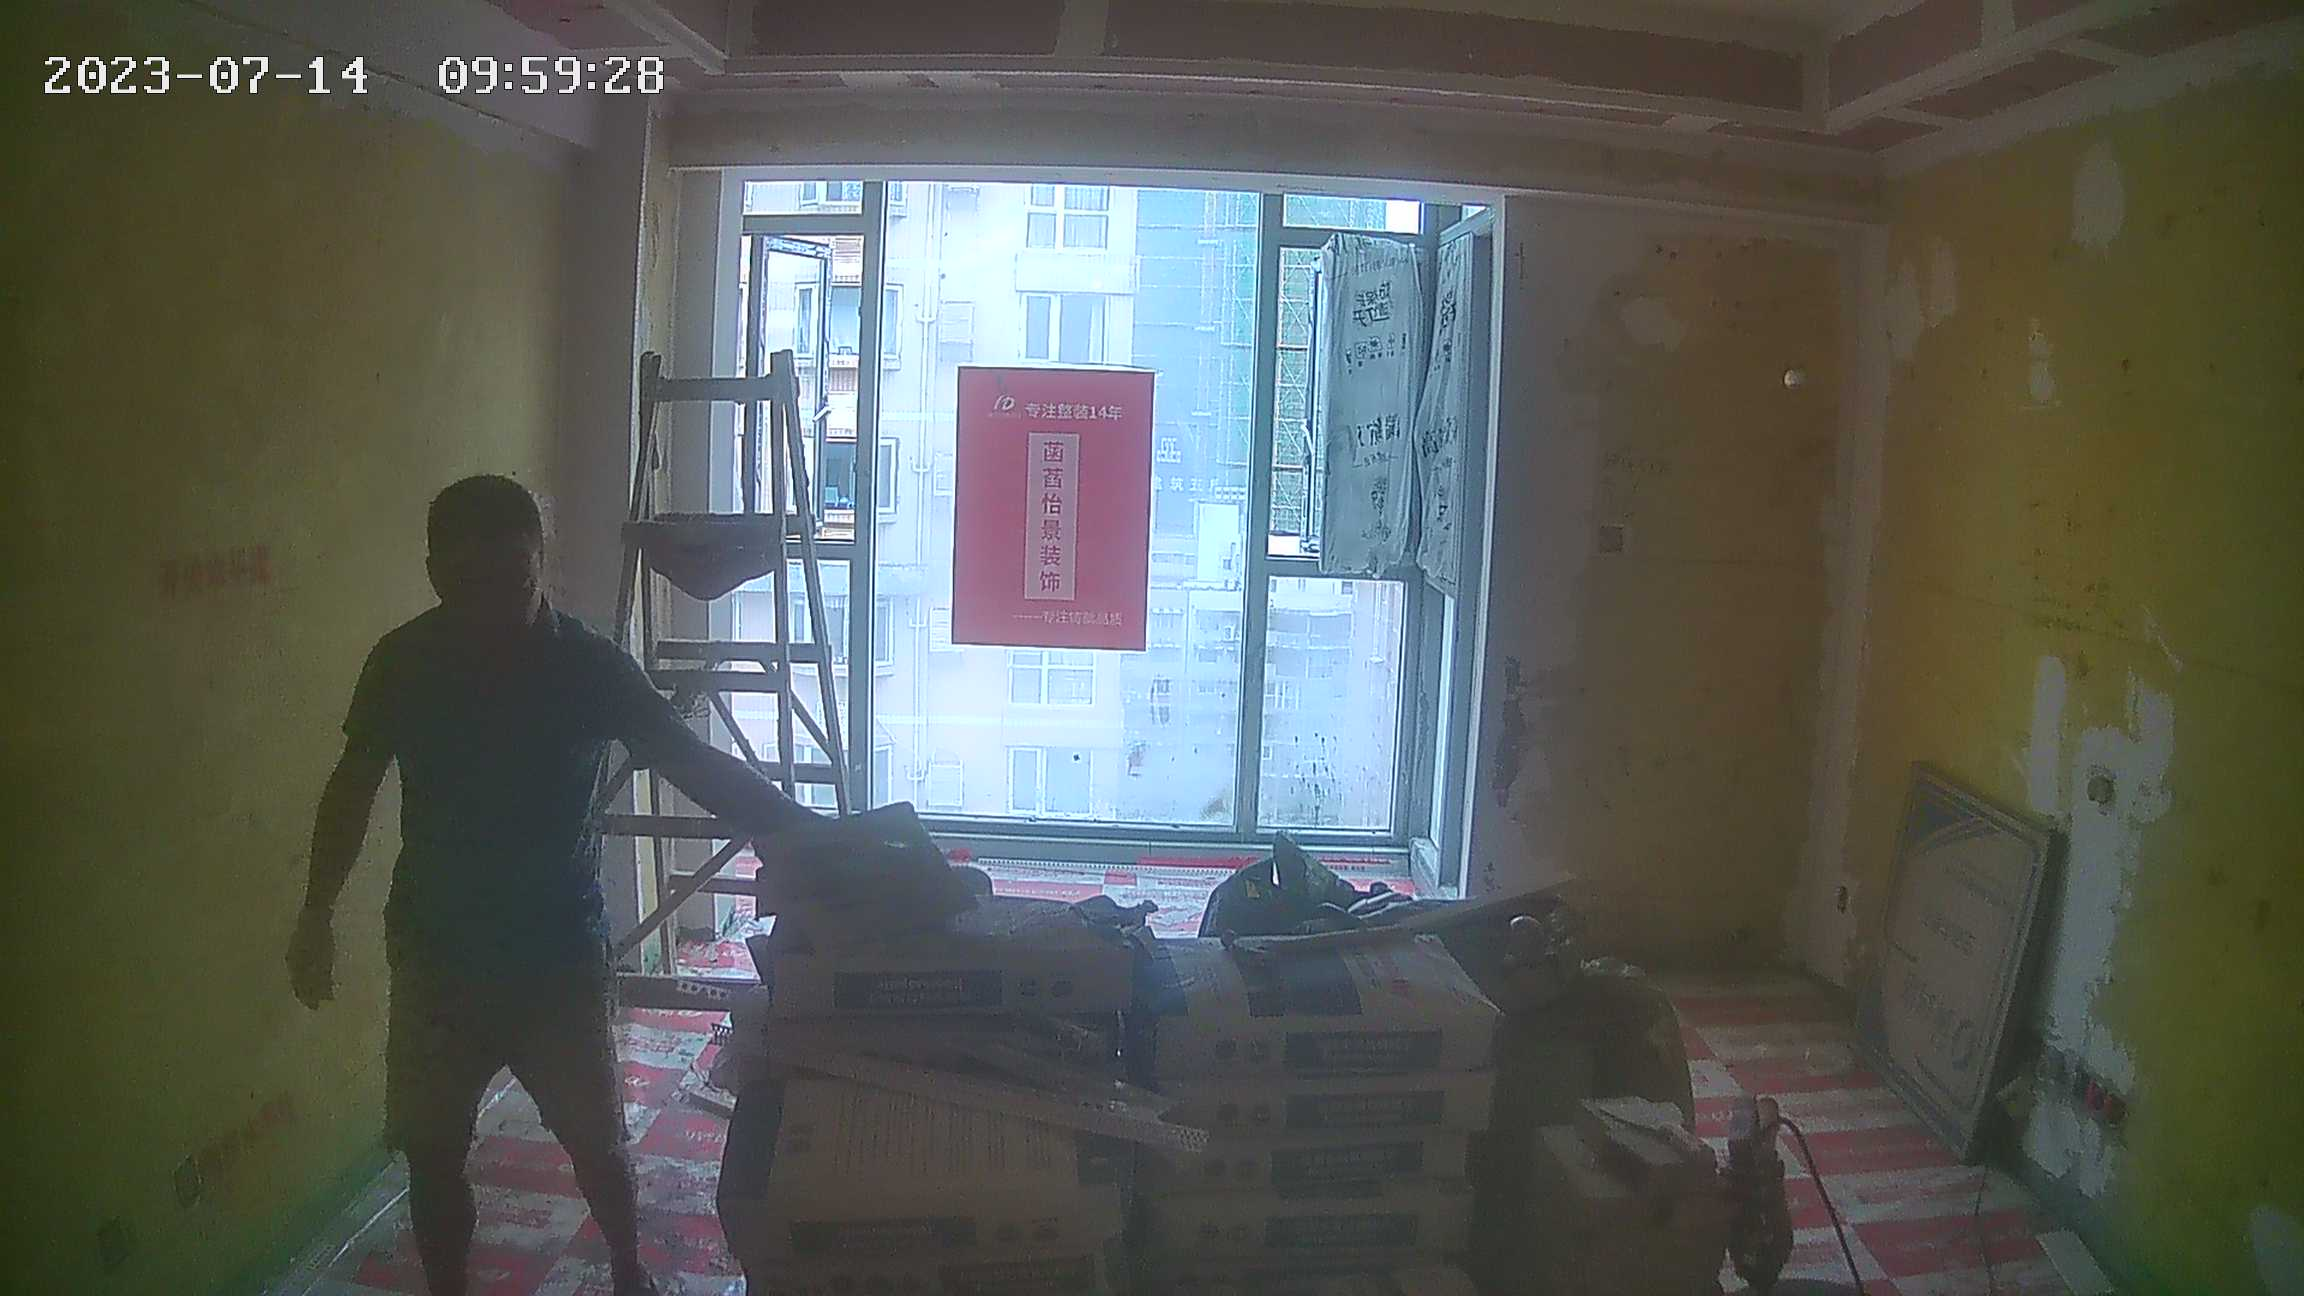people: (263, 456, 709, 1296)
window: (663, 171, 1437, 865)
